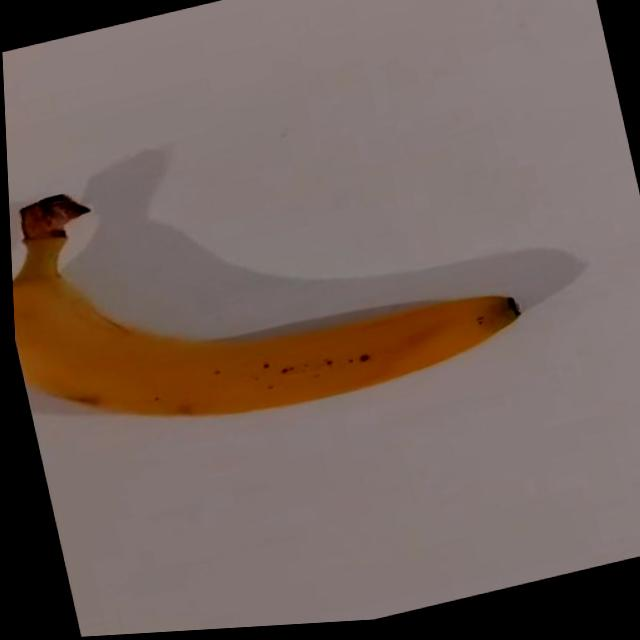Banana: (4, 99, 529, 470)
